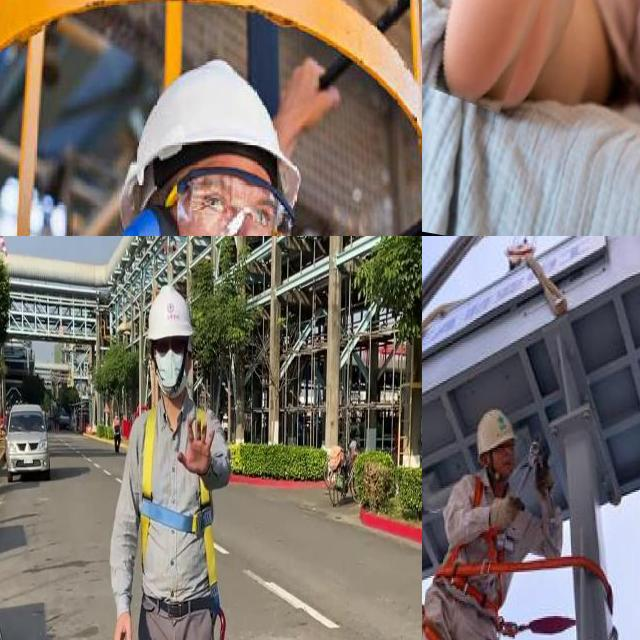Barefoots: (429, 0, 640, 176)
Ear-protection: (88, 193, 308, 236)
Harness: (435, 530, 614, 638), (139, 407, 217, 588)
glasses: (169, 162, 300, 236)
head_helmet: (113, 49, 311, 190)
person: (23, 31, 422, 236)
